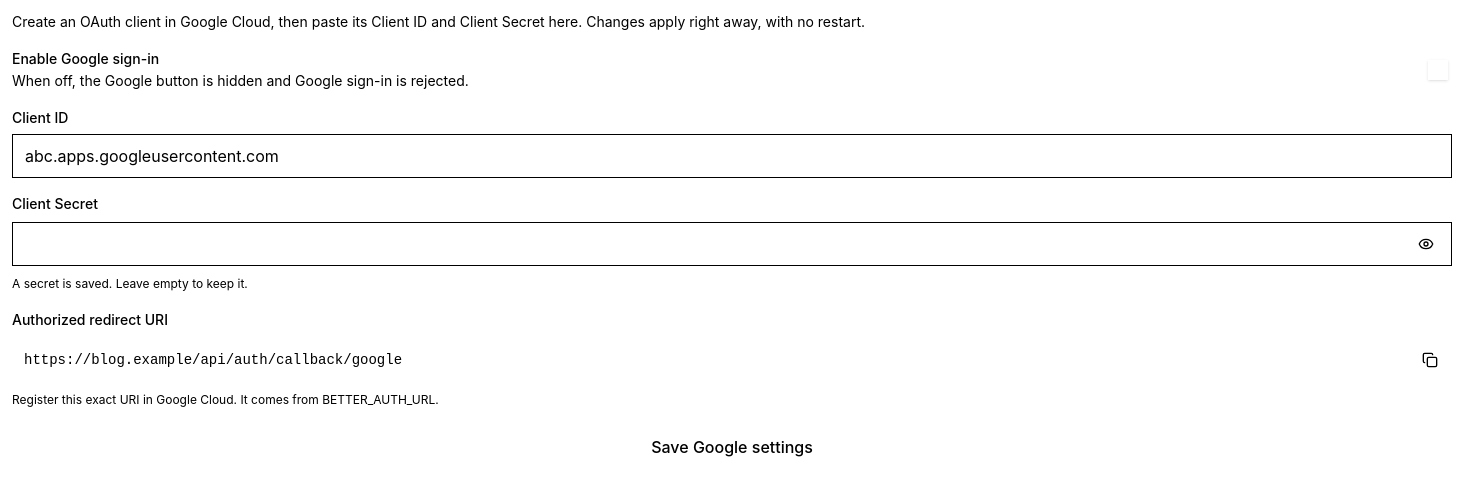
Scenario: GoogleSignInSettingsForm › Given the redirect URI, should copy it and announce it
This screenshot has width=1464, height=502.
Expected: the text "https://blog.example/api/auth/callback/google" is shown, [24,352,402,368]
Step 1. Click the button named "Copy redirect URI" → (1430, 360), box [1408,338,1452,382]
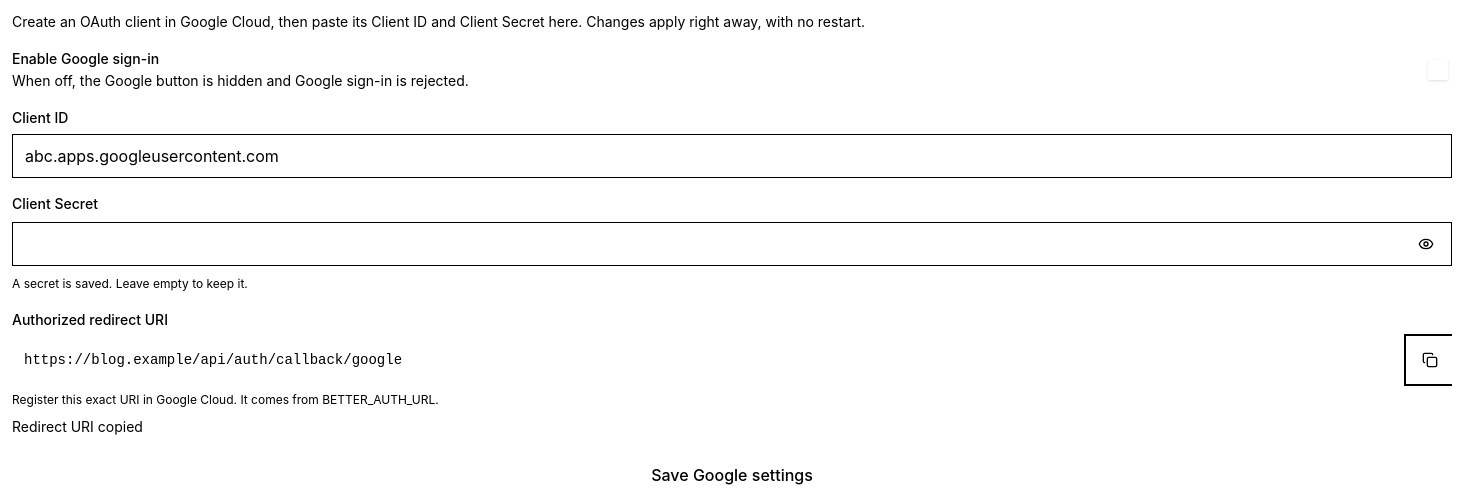
Now the text "Redirect URI copied" is shown, box [12,418,143,435]
